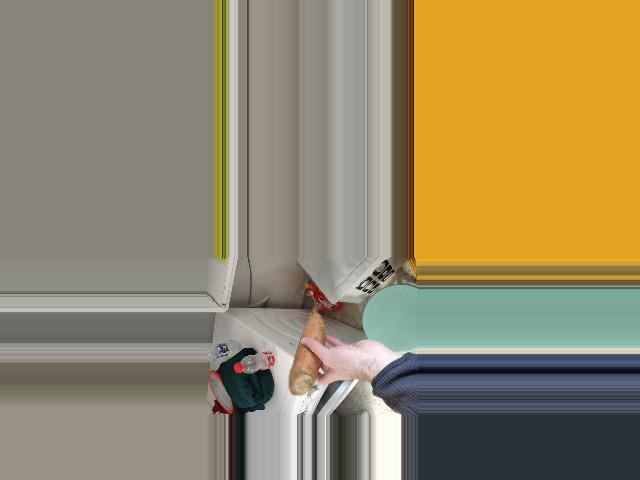sweet_potato: (294, 304, 320, 395)
